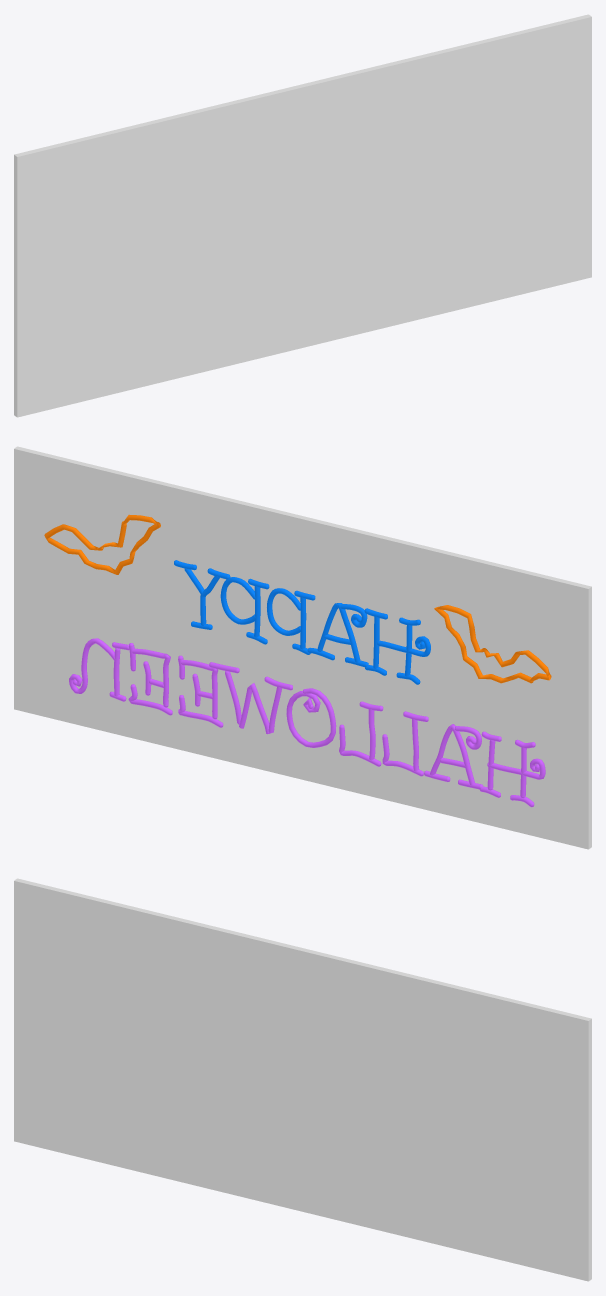
Rendered from my-neon-sign-optimized (33).glb.
The picture shows the model from 3 angles, top to bottom: view 1: azimuth 30°, elevation 25°; view 2: azimuth 150°, elevation 25°; view 3: azimuth 330°, elevation 25°; orthographic projection.
Size of the model in its own units: 696 by 301 by 17.
